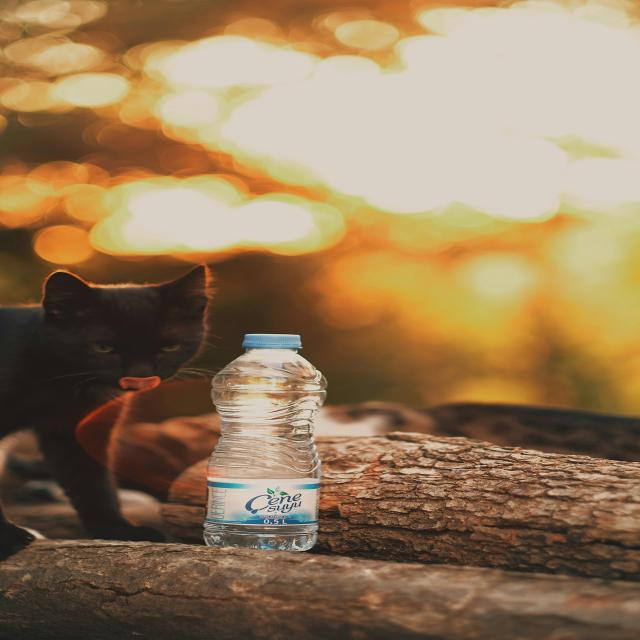bottle: (201, 331, 330, 552)
